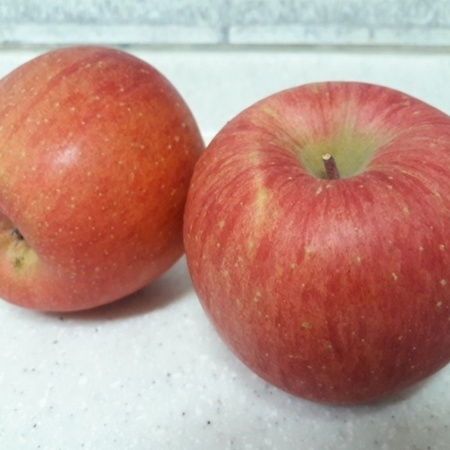apple: (180, 80, 450, 402), (1, 41, 209, 321)
